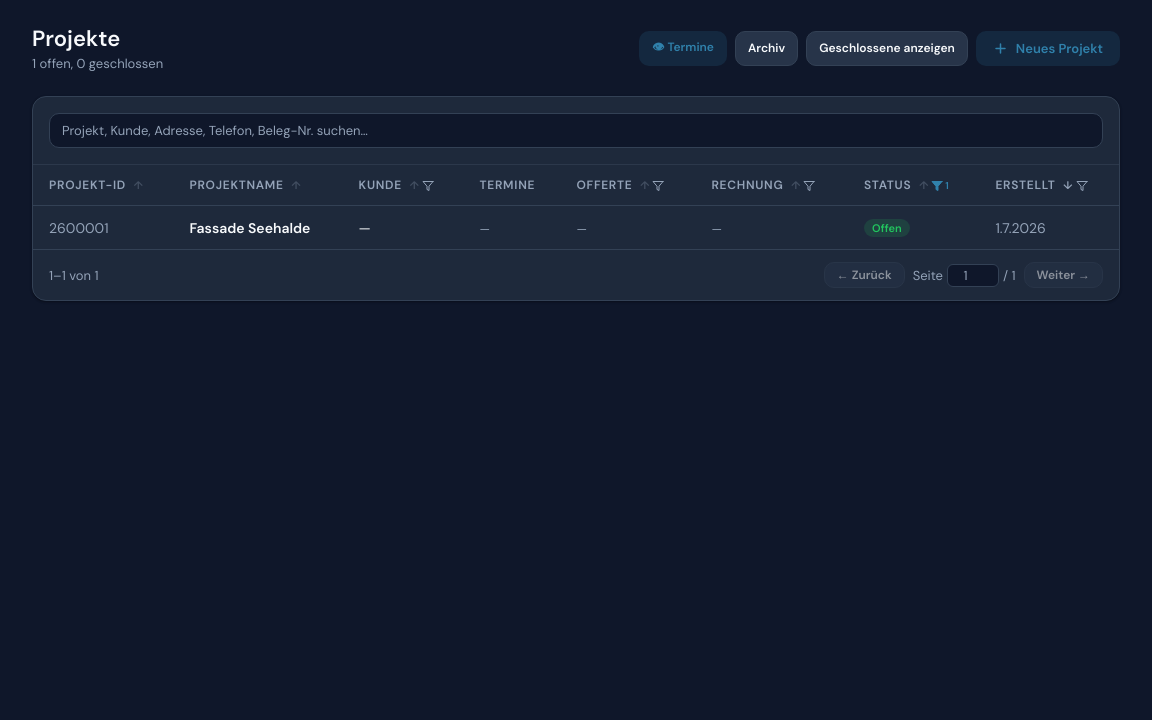
Test: ProjectsScreen — bestehendes Projekt speichert selbst › speichert beim Zurück das eben Getippte und verlässt die Maske ohne Nachfrage
Click the text "Fassade Seehalde" at (250, 228), box [189,218,310,236]
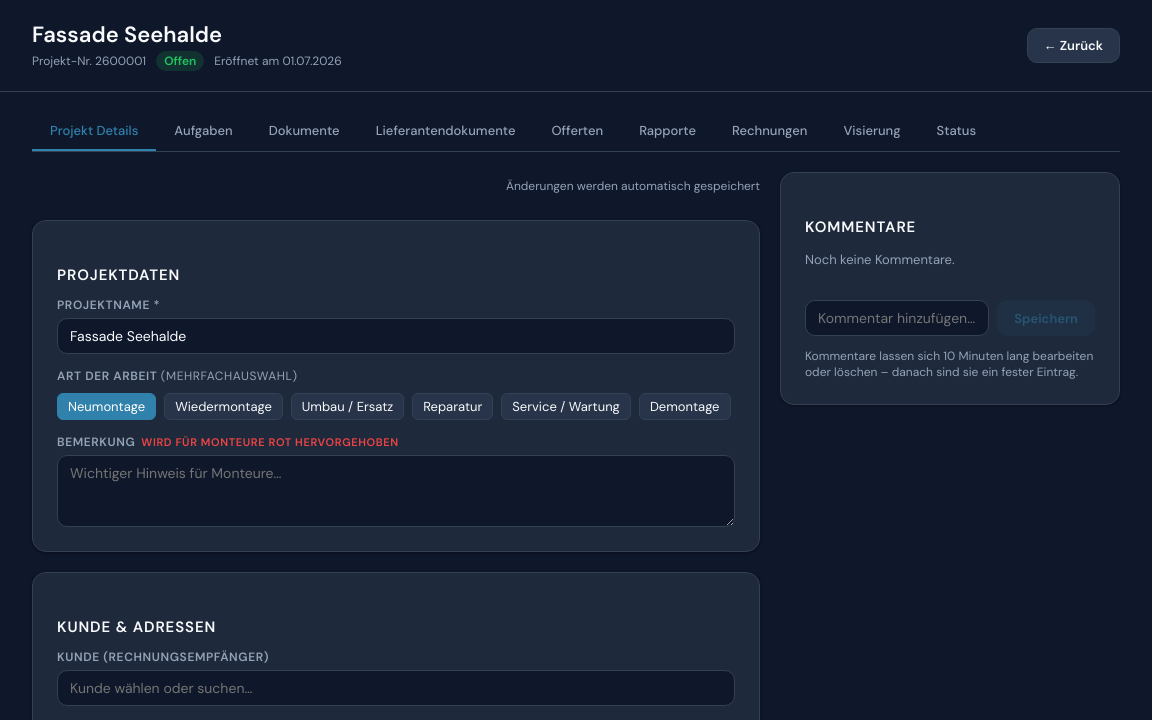
Type " Etappe 2" into the field labelled "Projektname *" at (396, 336), box [57,318,735,354]
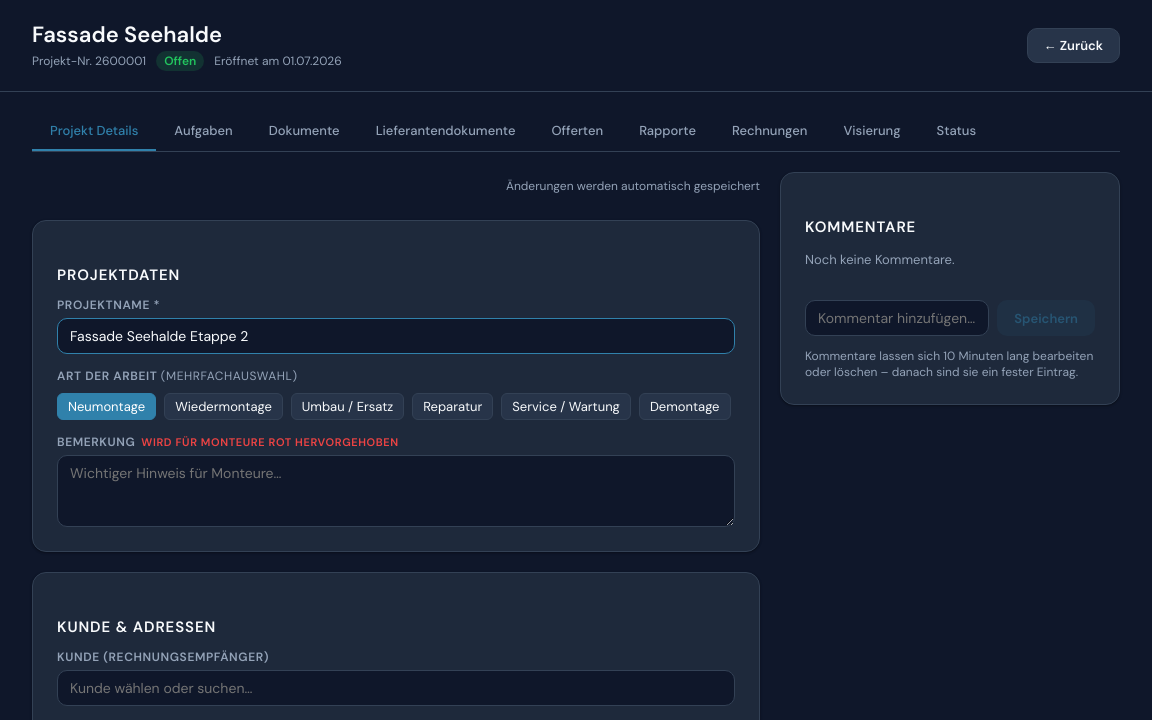
Click the button "← Zurück" at (1073, 46), box [1027,28,1120,63]
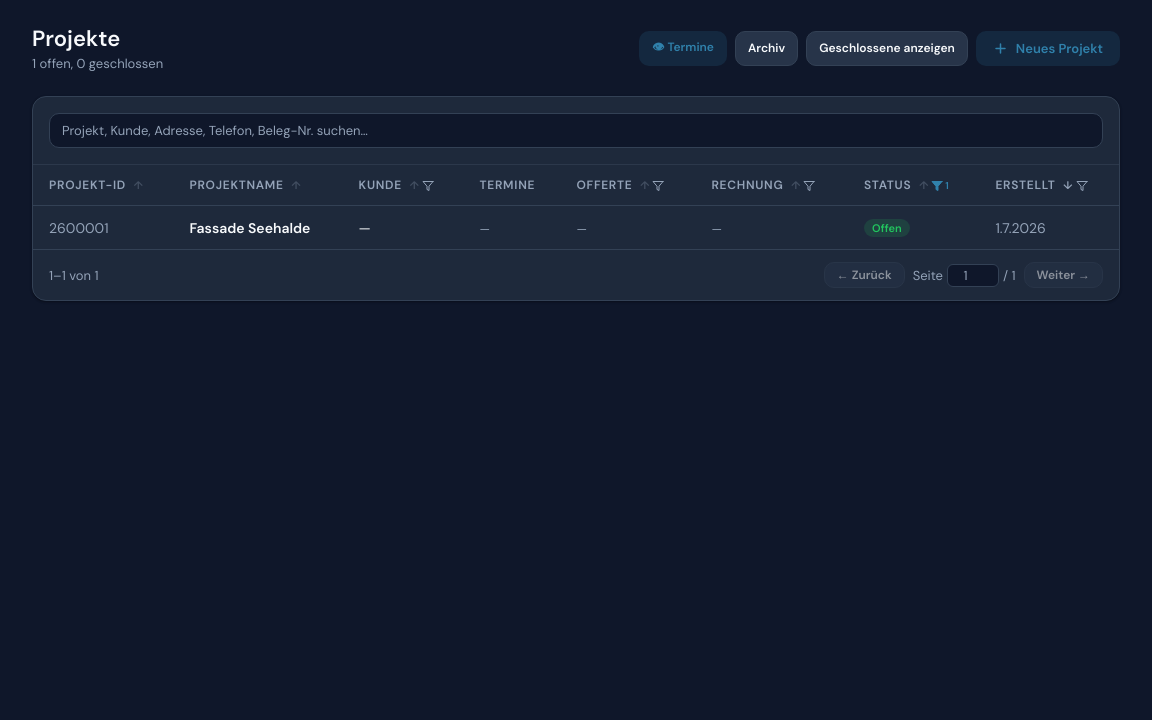
Check: the button "Neues Projekt" is shown, box [976,30,1120,66]
